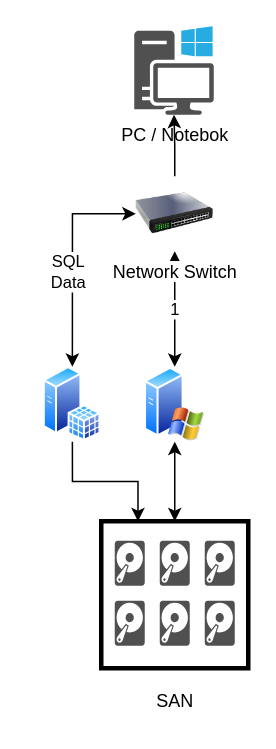
The diagram is 276 pixels wide and 749 high, and some of its shapes have lost their labels. The shapes that lost their labels are listed below. From the top down, each one's centre as x and y in pixels, then its label:
(71,403): SQL Server
(174,403): Server
